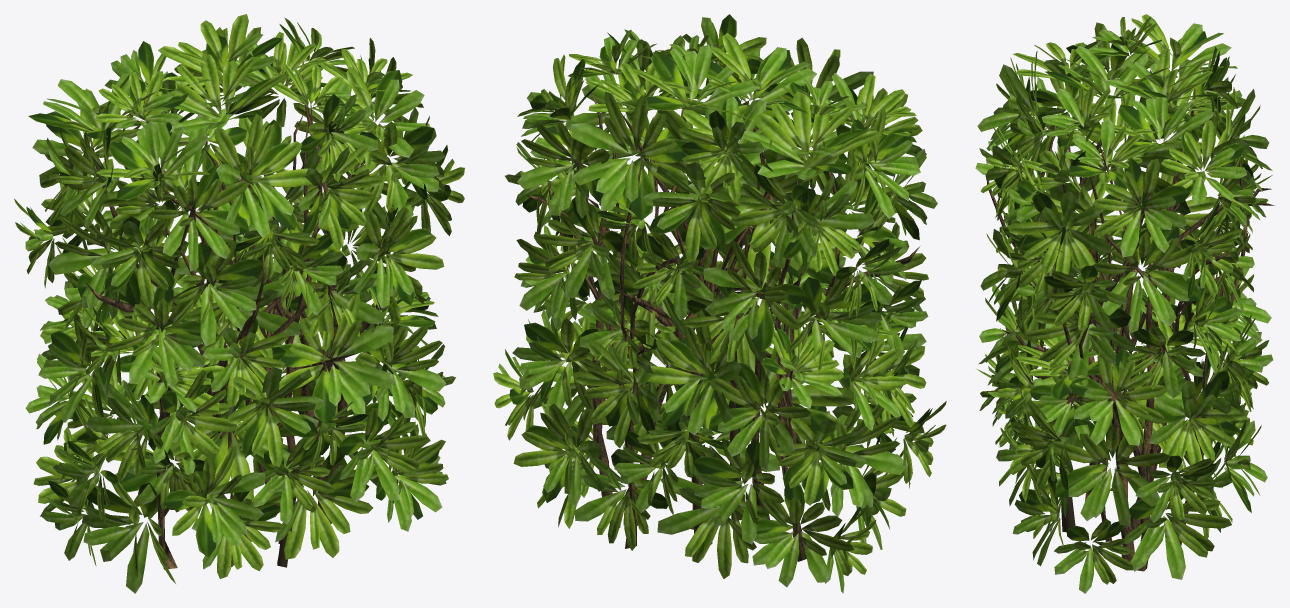
Rendered from high_hedge.glb.
The picture shows the model from 3 angles, left to right: view 1: azimuth 30°, elevation 25°; view 2: azimuth 150°, elevation 25°; view 3: azimuth 270°, elevation 25°; orthographic projection. The views are drawn at different scales.
Visible parts, largest first — view 1: Object_3, Object_2; view 2: Object_3, Object_2; view 3: Object_3, Object_2.
Boxes of the visible parts, bbox=[...] form: Object_3: bbox=[14, 14, 464, 593]; Object_2: bbox=[84, 61, 395, 569]; Object_3: bbox=[493, 14, 946, 593]; Object_2: bbox=[526, 64, 919, 561]; Object_3: bbox=[975, 14, 1273, 593]; Object_2: bbox=[986, 88, 1275, 571].
Size of the model in its own units: 151 by 179 by 104.
2 materials, 2 textured.
